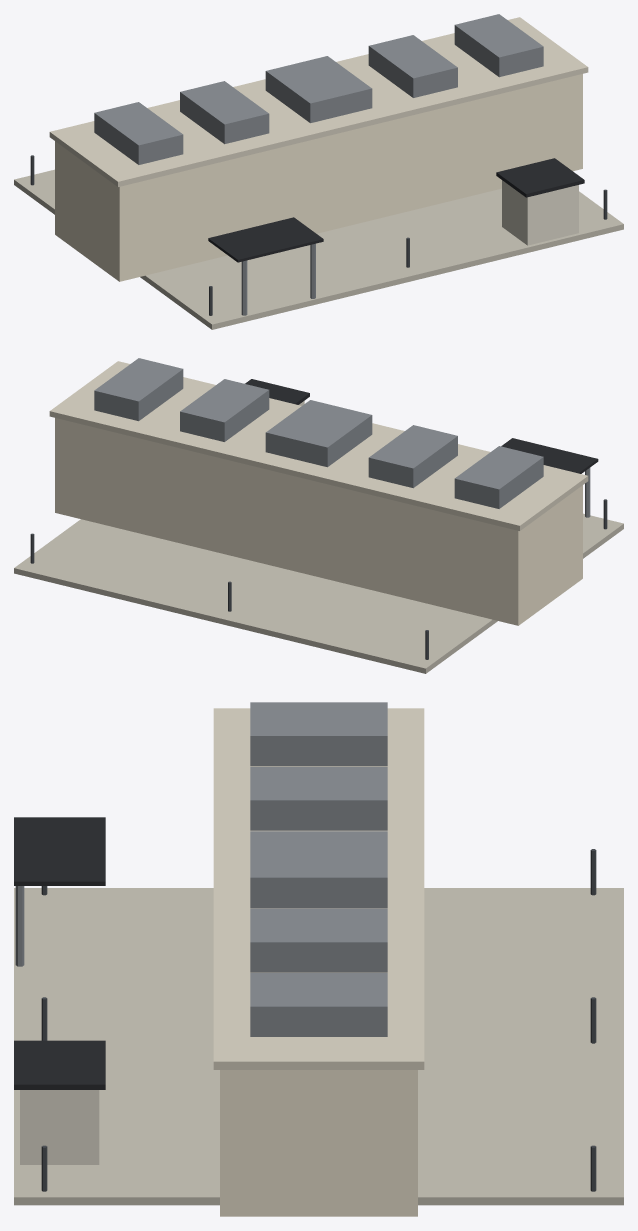
File: building.datacenter.glb
The picture shows the model from 3 angles, top to bottom: view 1: azimuth 30°, elevation 25°; view 2: azimuth 150°, elevation 25°; view 3: azimuth 270°, elevation 25°; orthographic projection. The views are drawn at different scales.
Parts seen in each view (by area): view 1: building.datacenter; view 2: building.datacenter; view 3: building.datacenter.
Boxes of the visible parts, x1,y1,x2,y2 form: building.datacenter: [14, 14, 623, 329]; building.datacenter: [14, 358, 623, 673]; building.datacenter: [14, 702, 623, 1216].
Bounding box in the file's own units: 27.4 × 7.1 × 20.
